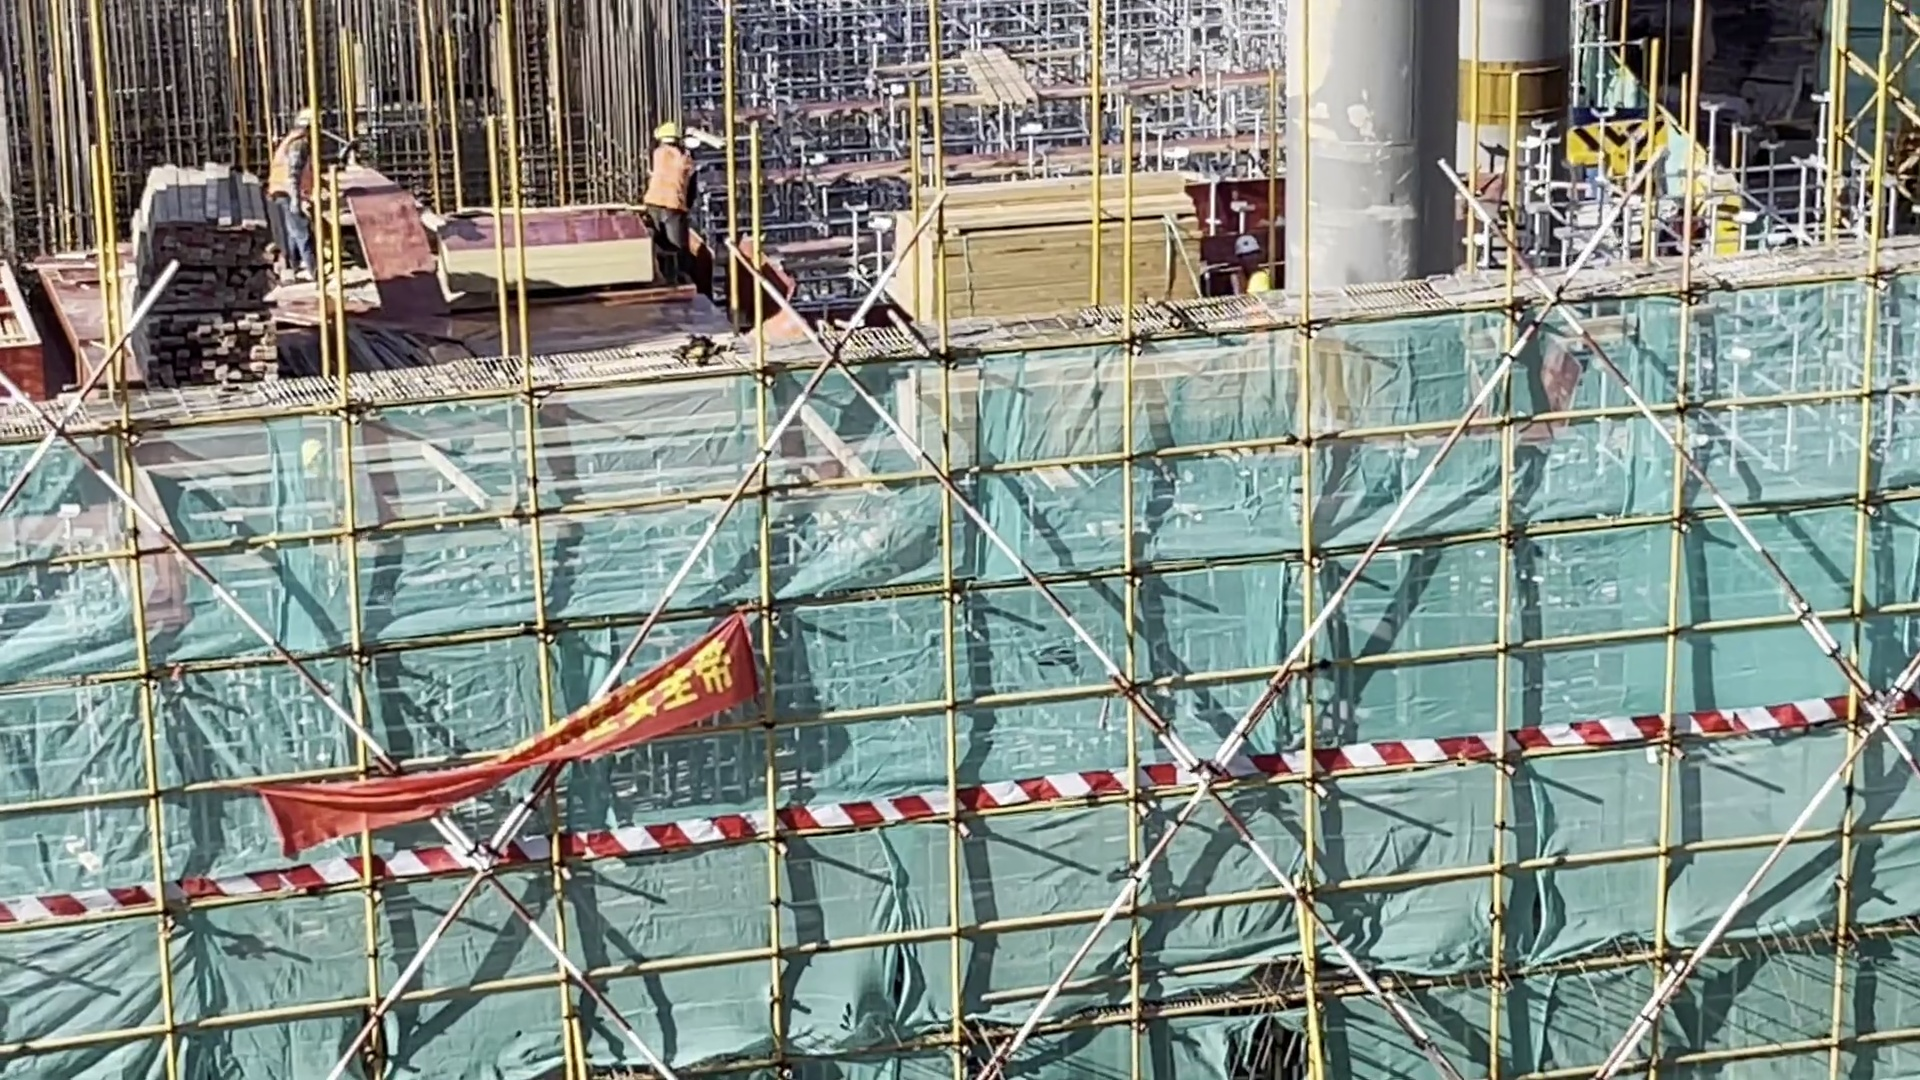board: (447, 211, 652, 285)
helmet: (1247, 274, 1268, 296), (1236, 237, 1261, 254), (297, 110, 319, 128), (653, 125, 681, 140), (300, 439, 321, 459)
person: (263, 103, 328, 291), (639, 123, 705, 299), (301, 441, 409, 541), (1230, 234, 1269, 295)
slogan: (279, 654, 719, 869)
vest: (647, 148, 688, 214), (268, 136, 306, 199), (1231, 272, 1246, 296)
wood: (915, 187, 1240, 312), (889, 364, 1331, 441), (131, 196, 260, 297), (148, 308, 276, 392)
